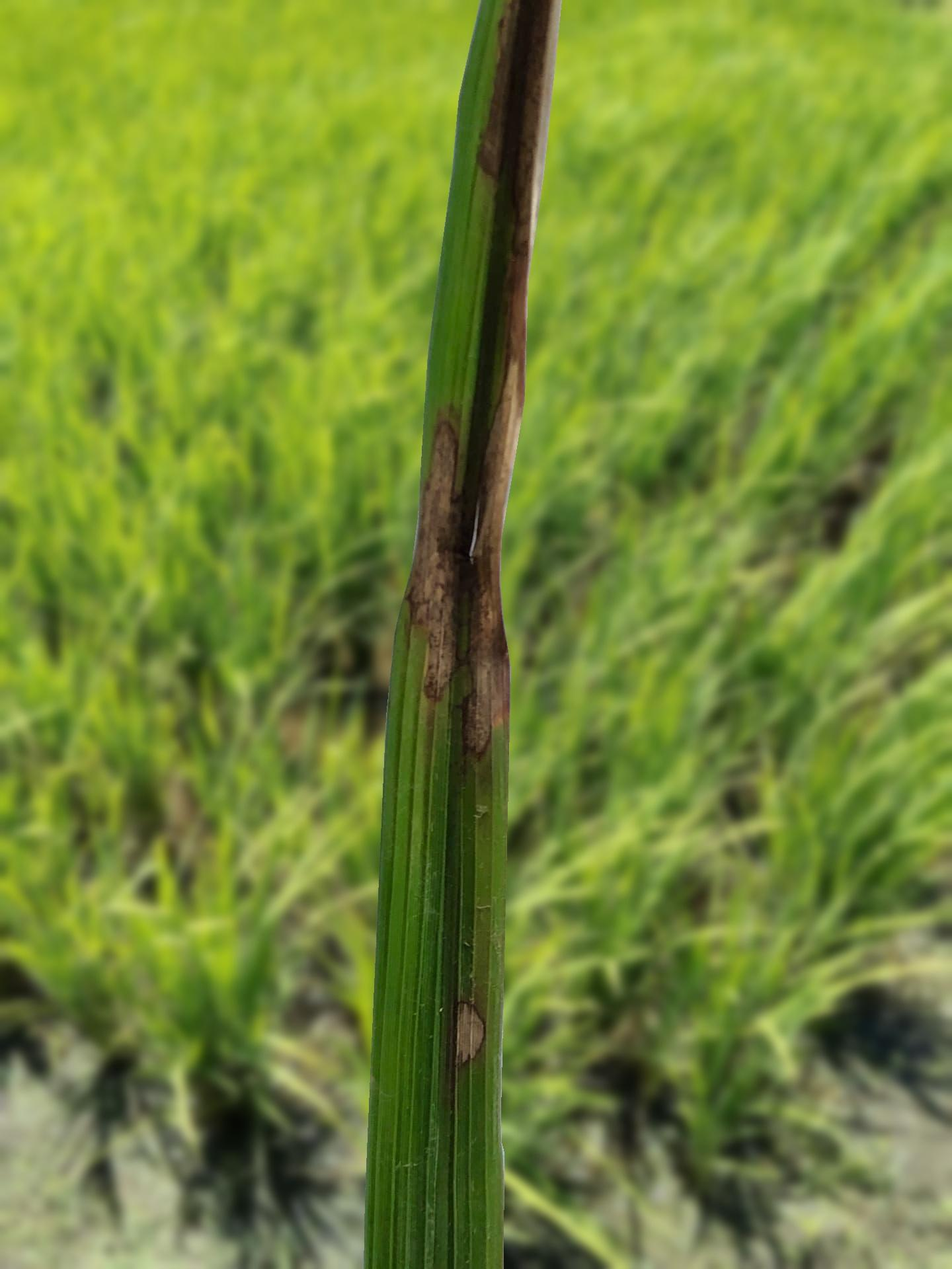BLB: (403, 2, 559, 774)
LEAF: (364, 0, 561, 1268)
